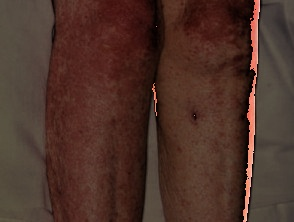SJS-TEN: (35, 0, 164, 222), (153, 0, 262, 222)
